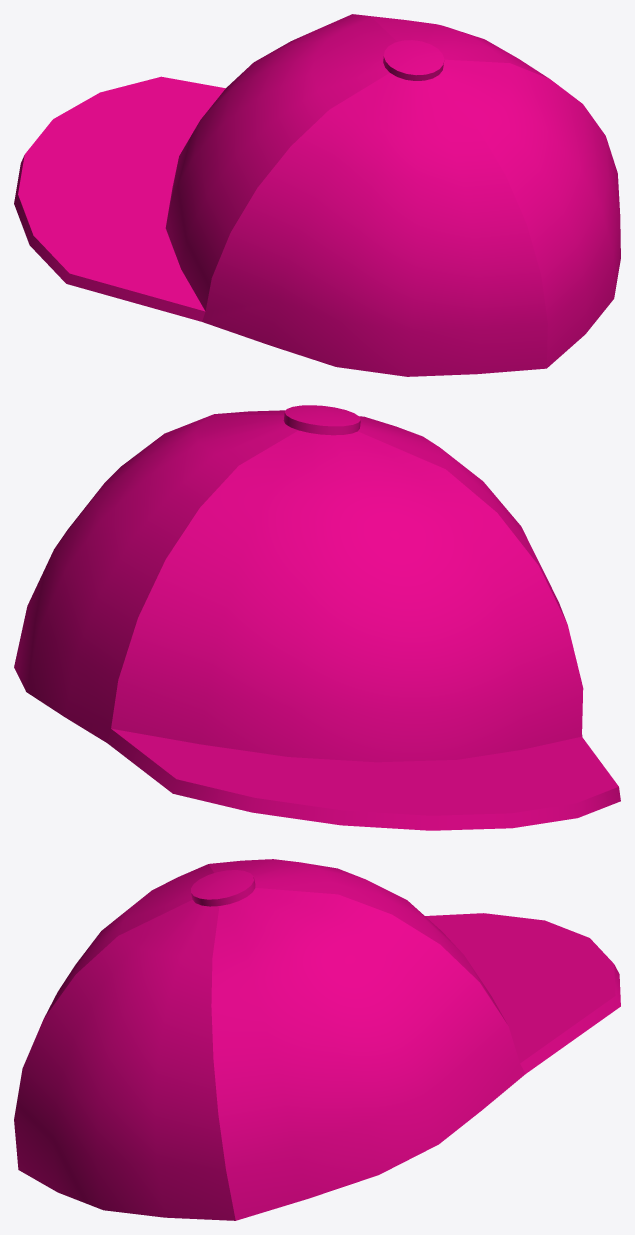
Rendered from baseballcap_basic_pink.glb.
The picture shows the model from 3 angles, top to bottom: view 1: azimuth 30°, elevation 25°; view 2: azimuth 150°, elevation 25°; view 3: azimuth 270°, elevation 25°; orthographic projection. The views are drawn at different scales.
Parts seen in each view (by area): view 1: 0.030; view 2: 0.030; view 3: 0.030.
Boxes of the visible parts, bbox=[...] form: 0.030: bbox=[14, 14, 620, 376]; 0.030: bbox=[14, 405, 620, 830]; 0.030: bbox=[14, 859, 620, 1220].
Size of the model in its own units: 0.5039 by 0.2436 by 0.4932.
